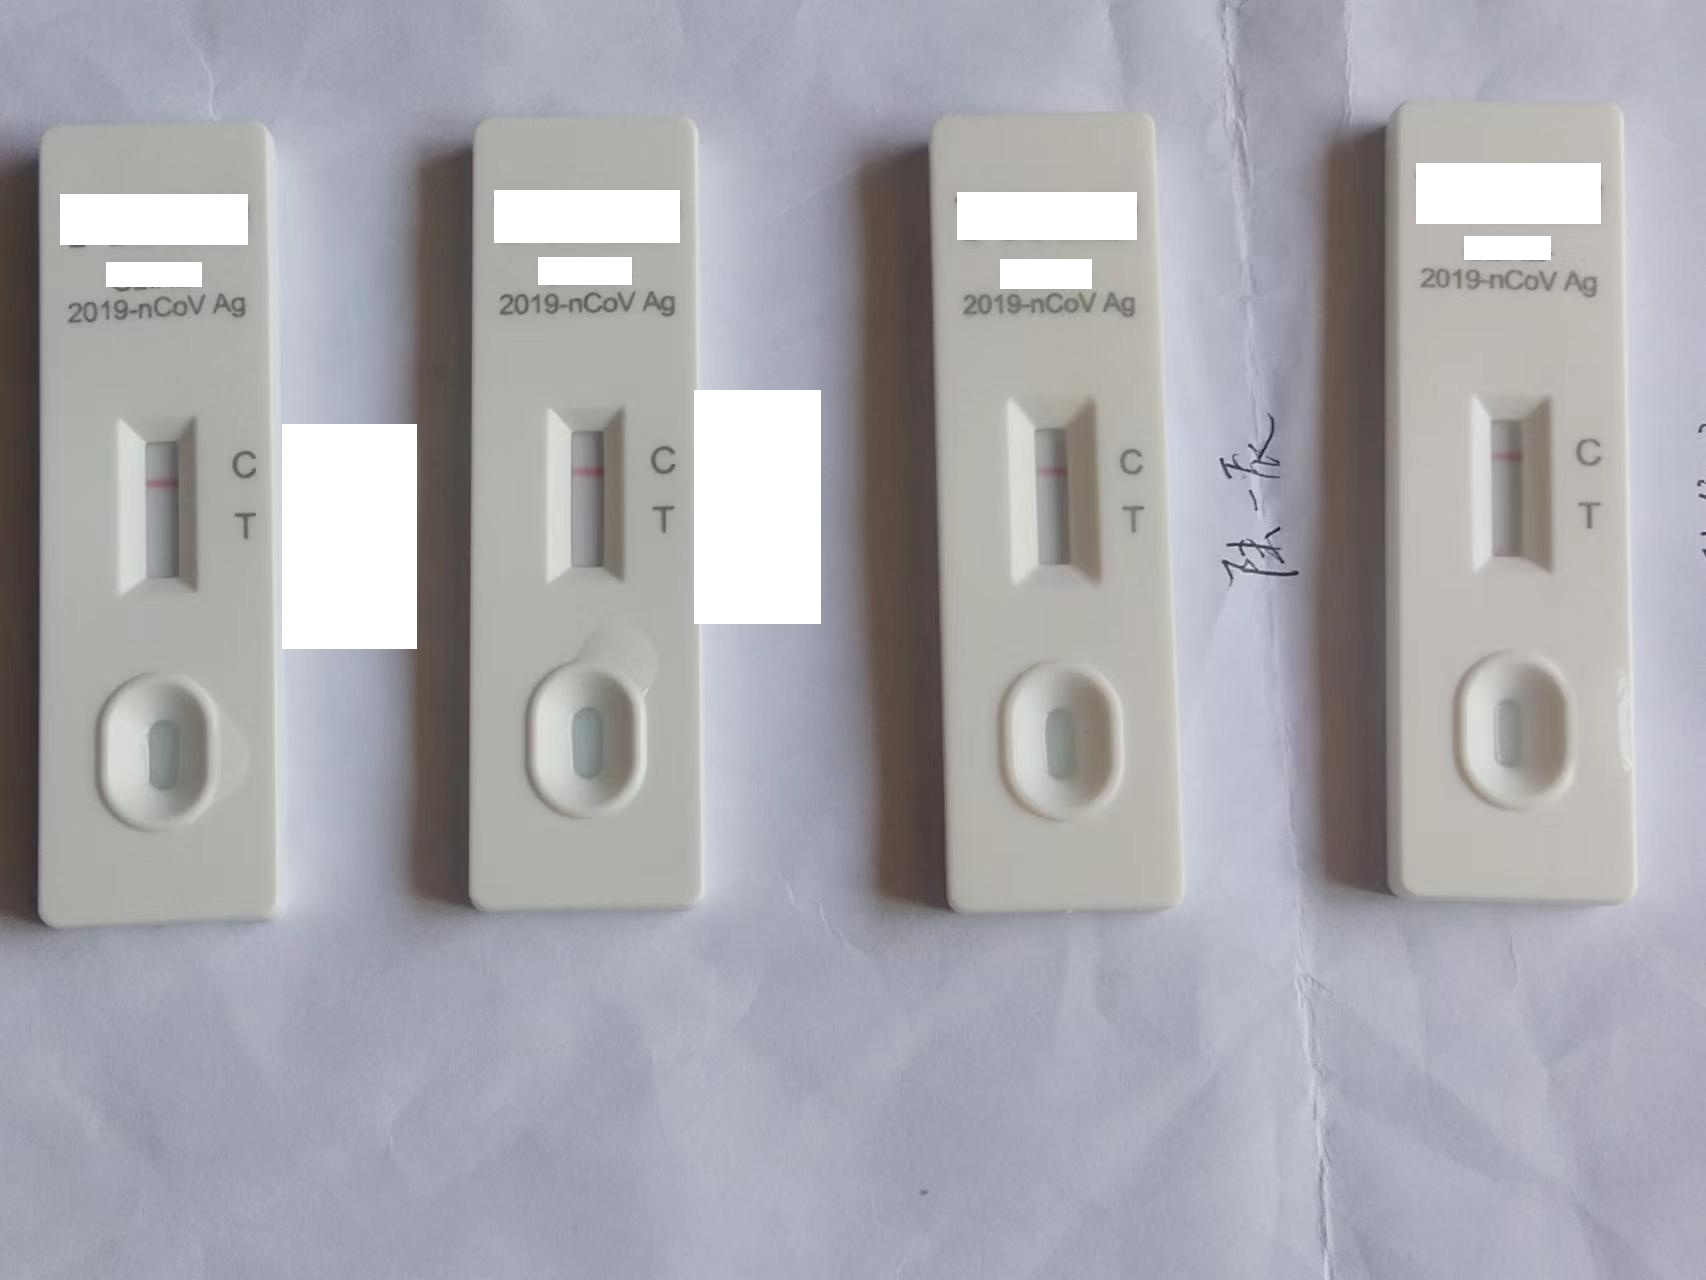negative: (1010, 397, 1098, 579), (1471, 387, 1555, 575), (120, 418, 199, 601), (544, 407, 626, 579)
